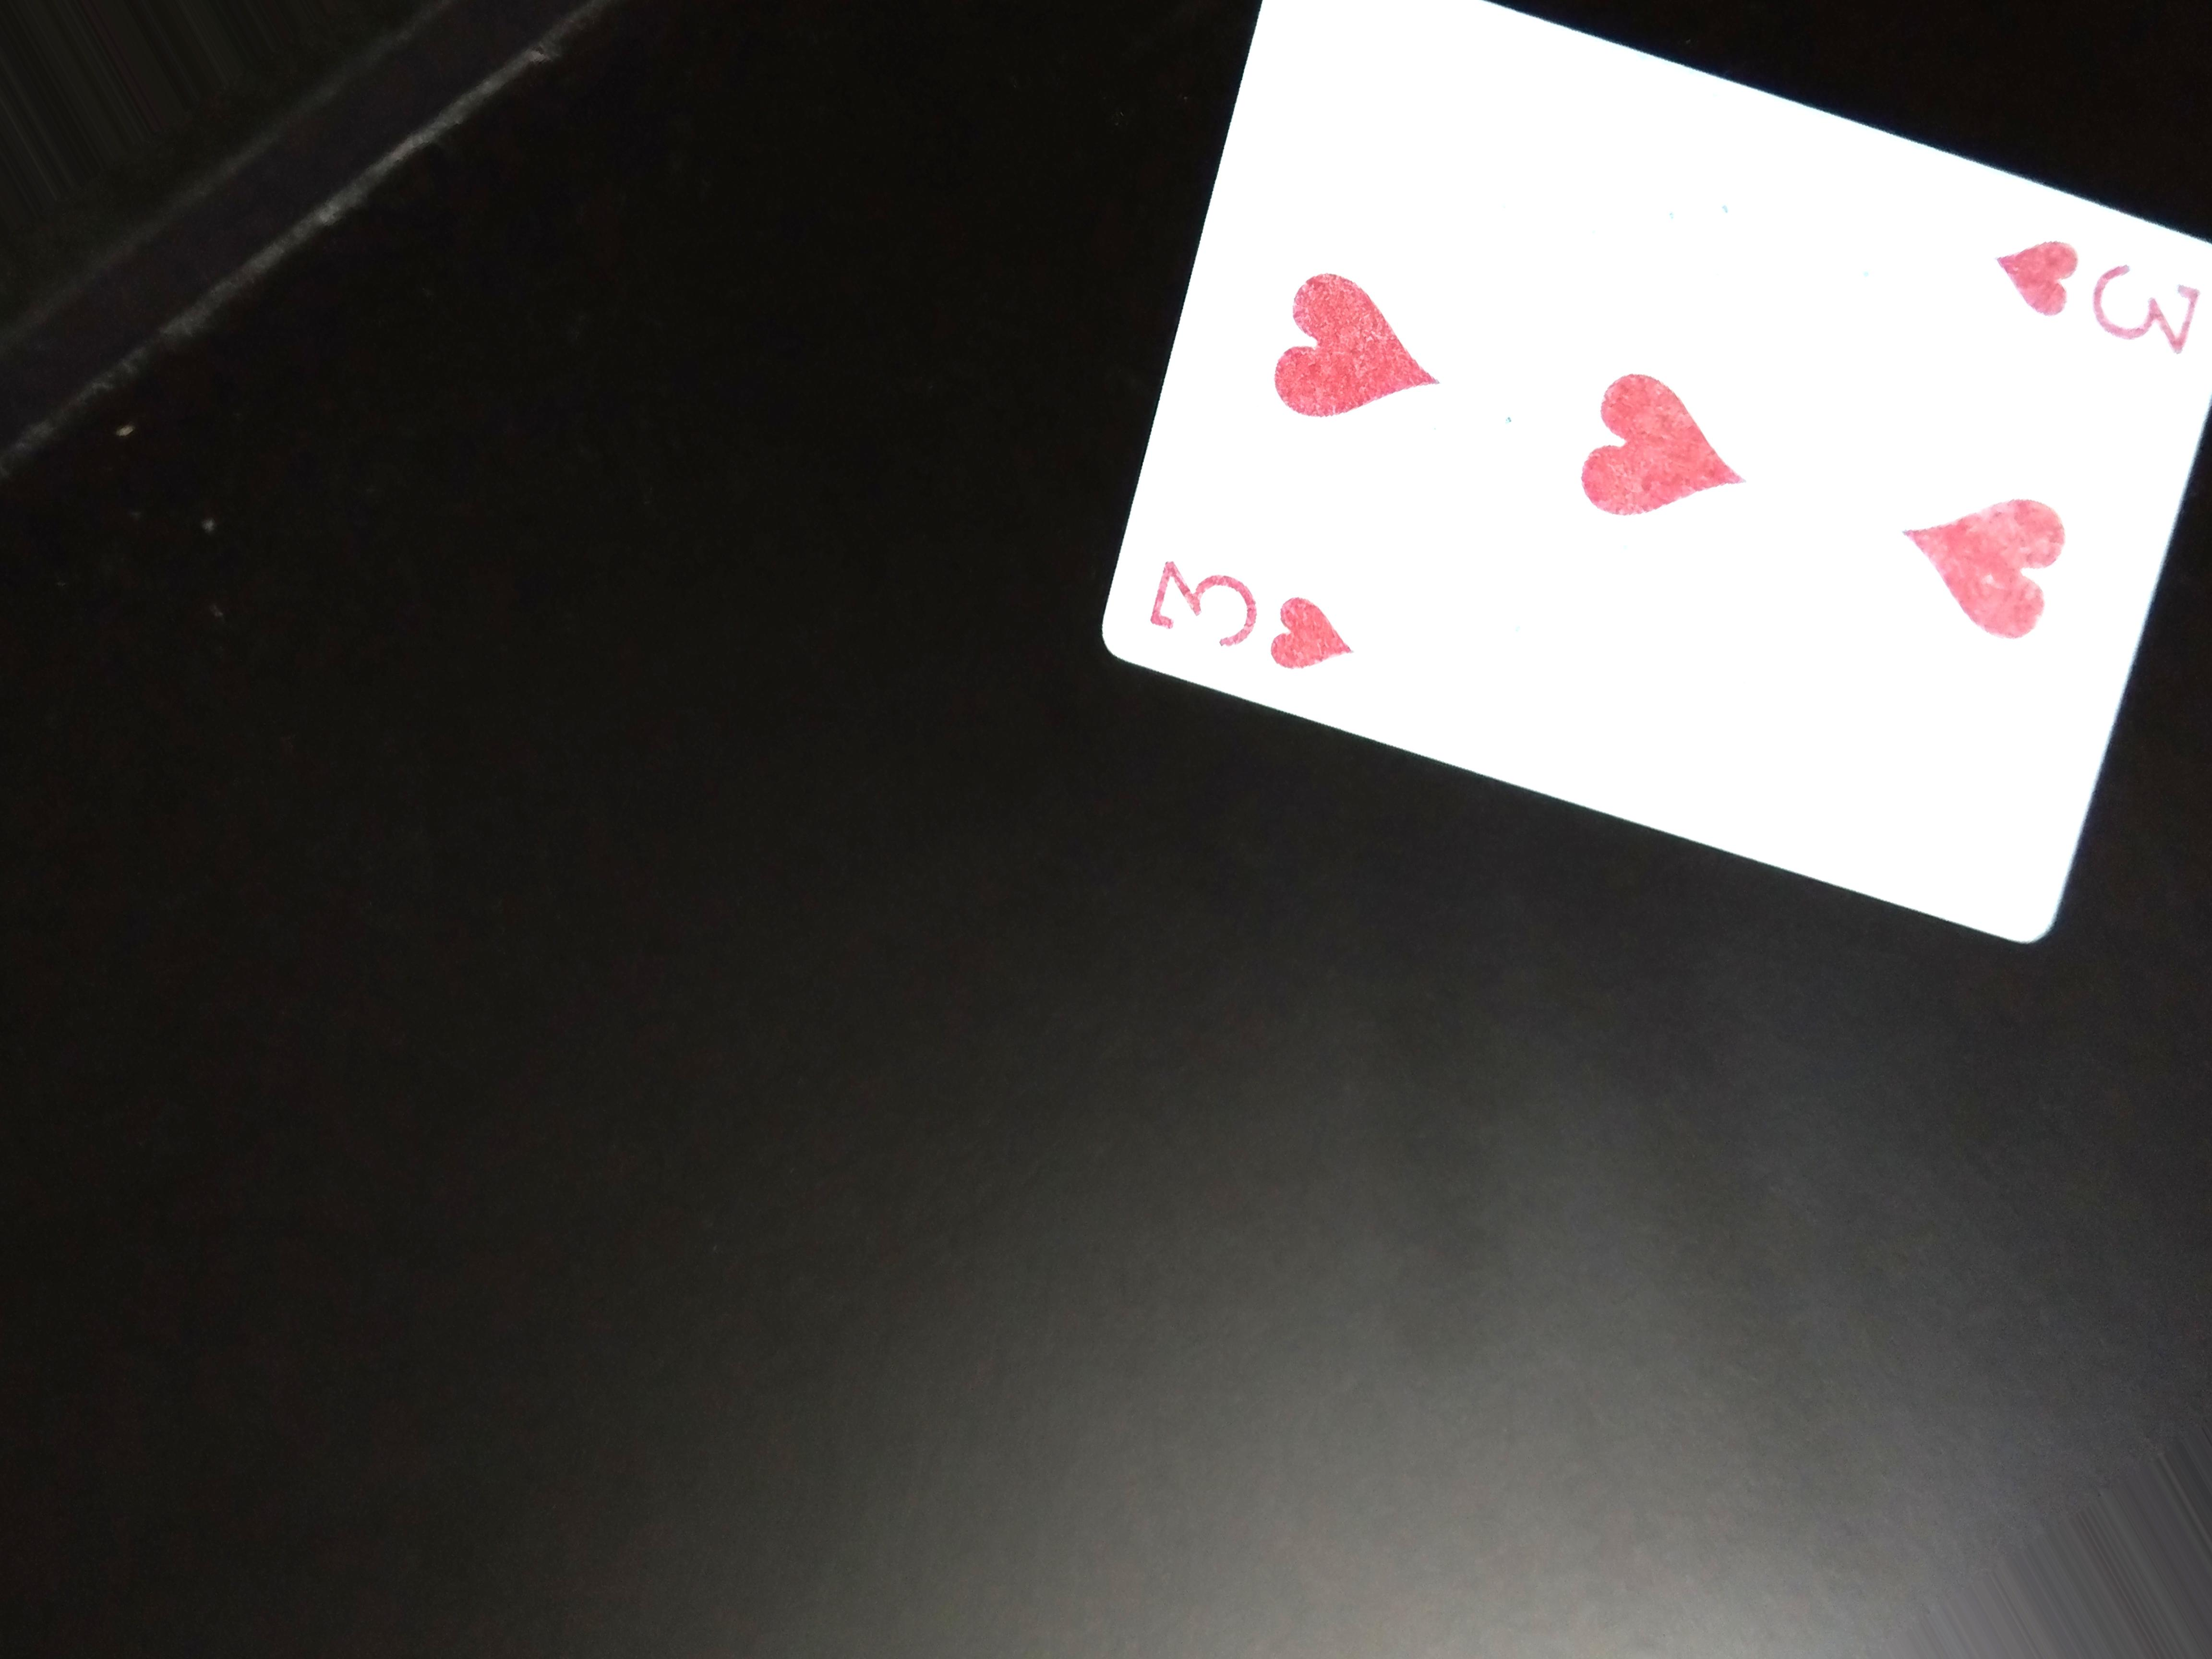3H: (1139, 542, 1371, 695)
